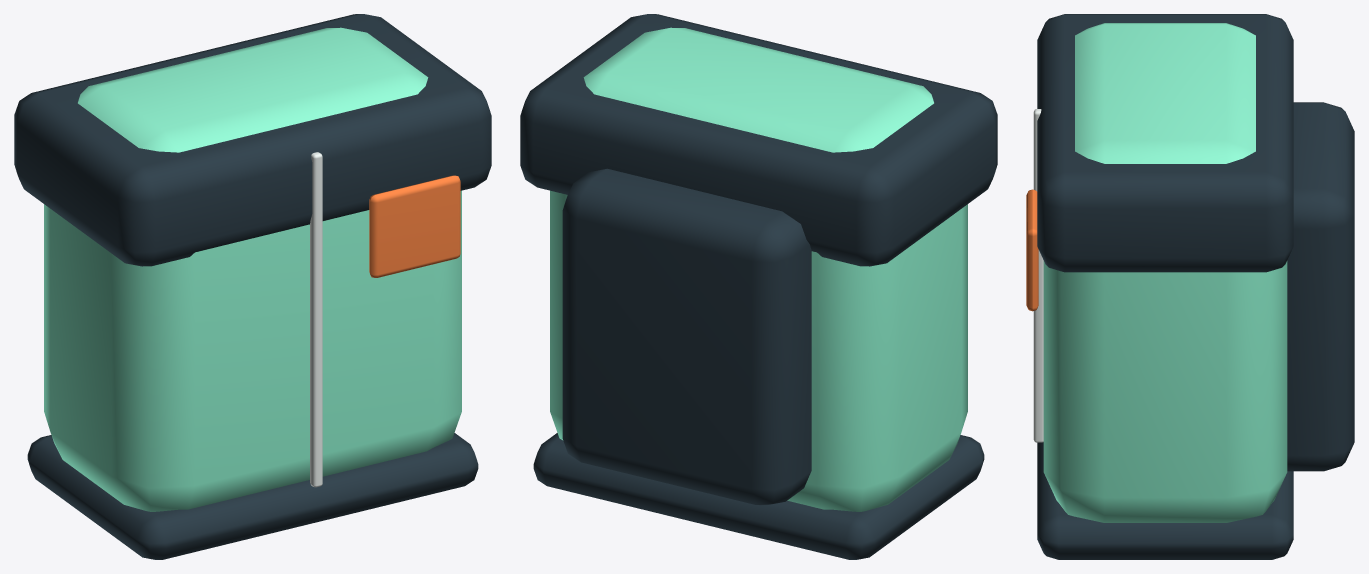
The model's file is rider_torso.glb.
3 views of the same model, side by side, from view 1: azimuth 30°, elevation 25°; view 2: azimuth 150°, elevation 25°; view 3: azimuth 270°, elevation 25° (orthographic).
Parts seen in each view (by area): view 1: Jacket torso, Shoulder yoke, Belt, Chest patch, Jacket zipper; view 2: Back protector, Jacket torso, Shoulder yoke, Belt; view 3: Jacket torso, Shoulder yoke, Back protector, Belt, Jacket zipper, Chest patch.
Part boxes in pixels (bbox=[...]): Jacket torso: bbox=[44, 27, 461, 511]; Shoulder yoke: bbox=[14, 14, 491, 266]; Belt: bbox=[27, 433, 478, 559]; Chest patch: bbox=[369, 175, 460, 277]; Jacket zipper: bbox=[310, 152, 322, 487]; Back protector: bbox=[562, 168, 811, 505]; Jacket torso: bbox=[550, 27, 967, 511]; Shoulder yoke: bbox=[520, 14, 997, 266]; Belt: bbox=[533, 433, 984, 559]; Jacket torso: bbox=[1043, 23, 1287, 522]; Shoulder yoke: bbox=[1037, 14, 1293, 272]; Back protector: bbox=[1287, 102, 1354, 471]; Belt: bbox=[1037, 442, 1293, 559]; Jacket zipper: bbox=[1033, 109, 1043, 442]; Chest patch: bbox=[1026, 189, 1038, 311].
Size of the model in its own units: 0.7 by 0.73 by 0.538.
